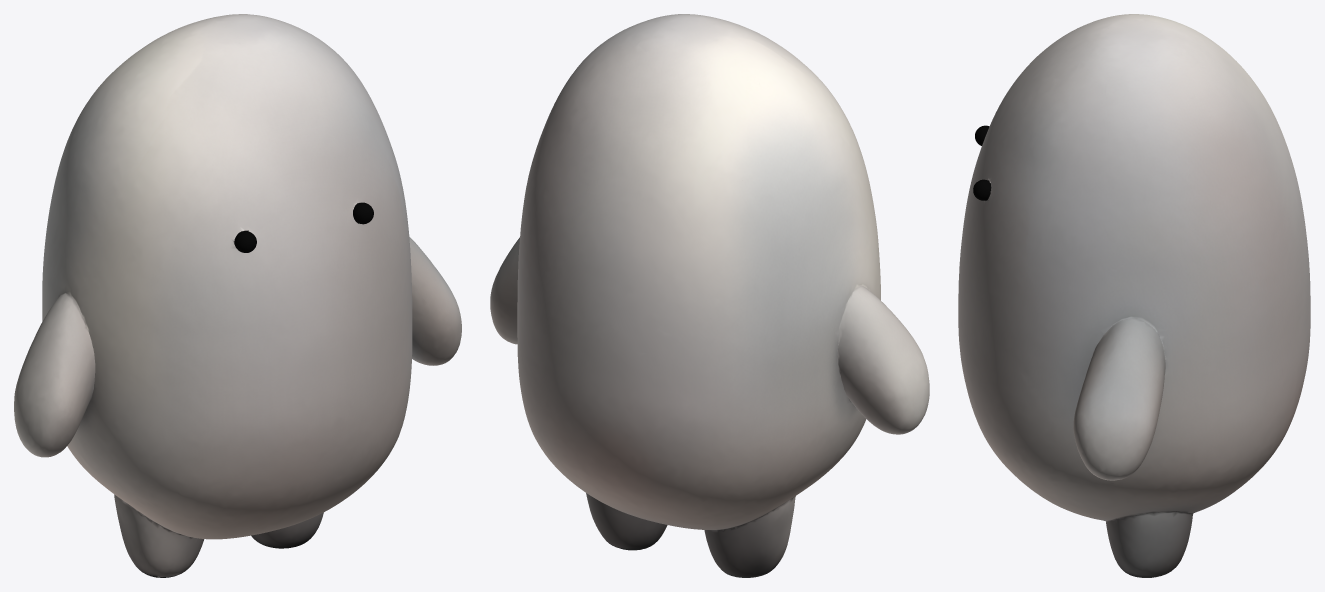
Rendered from runner.glb.
The picture shows the model from 3 angles, left to right: view 1: azimuth 30°, elevation 25°; view 2: azimuth 150°, elevation 25°; view 3: azimuth 270°, elevation 25°; orthographic projection. The views are drawn at different scales.
Parts seen in each view (by area): view 1: world; view 2: world; view 3: world.
Boxes of the visible parts, box(x1,y1,x2,y2) form: world: box(14, 14, 461, 577); world: box(490, 14, 929, 577); world: box(958, 14, 1310, 577).
Size of the model in its own units: 0.8506 by 1 by 0.622.
Materials: 1 (1 with a texture image).
